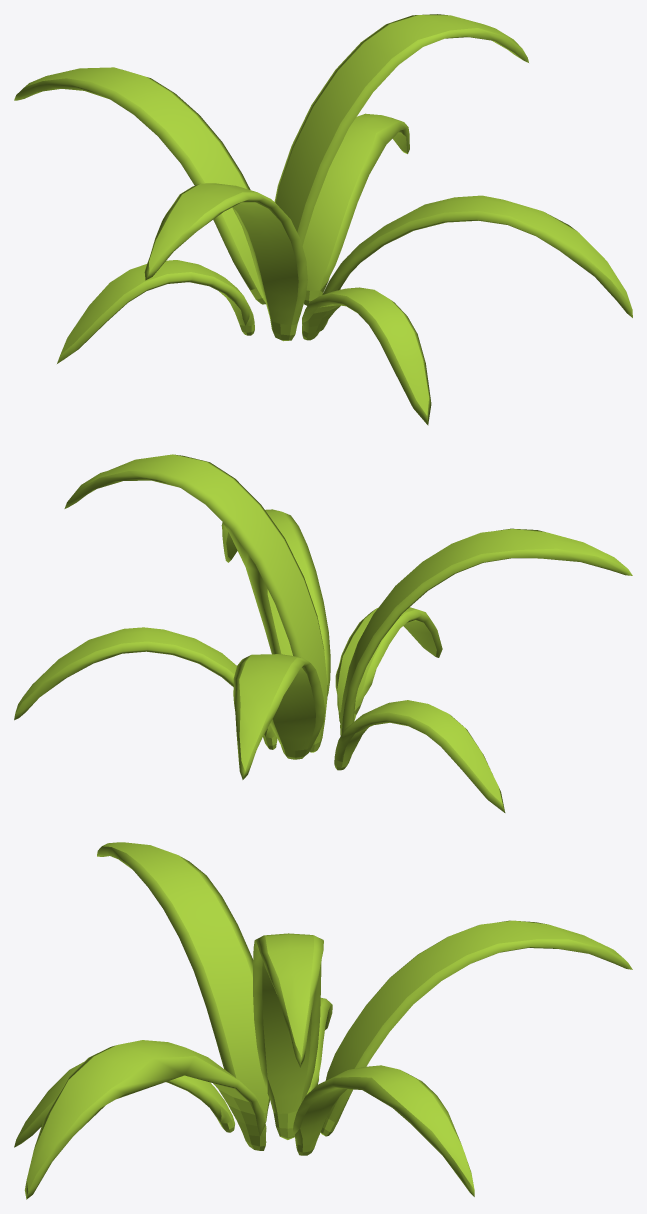
Rendered from Plant Green.fbx.
3 renders of one model, top to bottom at view 1: azimuth 30°, elevation 25°; view 2: azimuth 150°, elevation 25°; view 3: azimuth 270°, elevation 25°, orthographic. The views are drawn at different scales.
Visible parts, largest first — view 1: ref004; view 2: ref004; view 3: ref004.
Part boxes in pixels (<box>): ref004: <box>14,14,632,425</box>; ref004: <box>14,454,632,812</box>; ref004: <box>14,842,632,1199</box>.
Size of the model in its own units: 1313 by 1193 by 637.
